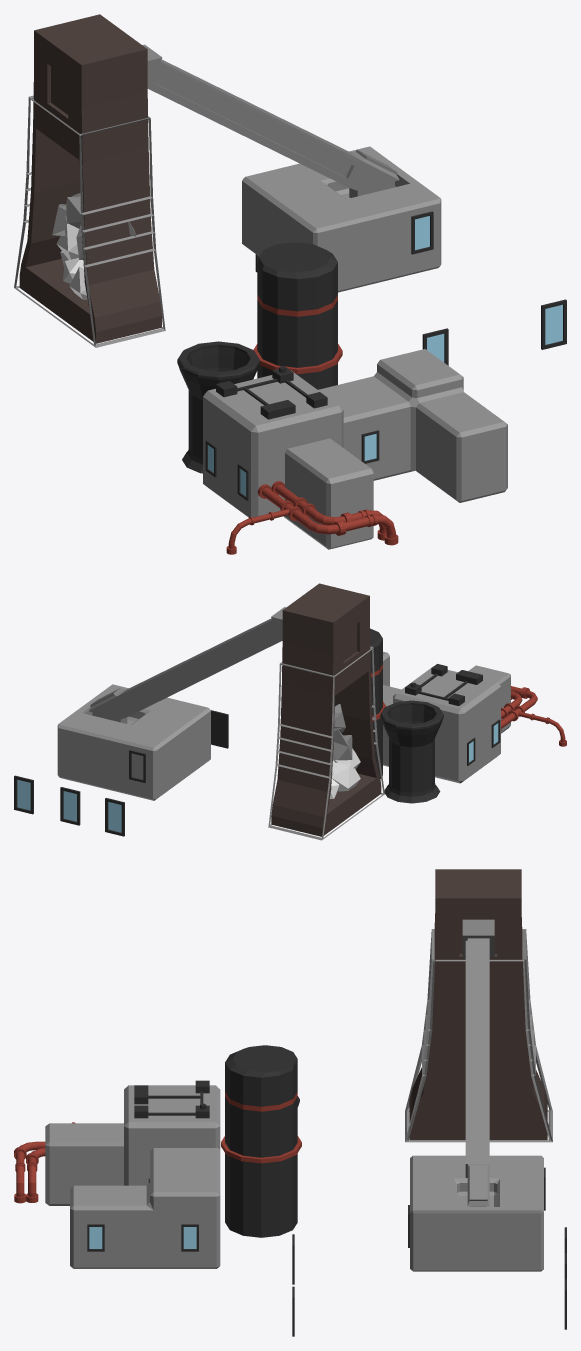
File: Industry_NEWOBJECT1.fbx
The picture shows the model from 3 angles, top to bottom: view 1: azimuth 30°, elevation 25°; view 2: azimuth 150°, elevation 25°; view 3: azimuth 270°, elevation 25°; orthographic projection. The views are drawn at different scales.
Visible parts, largest first — view 1: Oven, Cube.001, Cube.005, Cube, Cylinder.002, Cube.003, Cube.002, Cylinder, Railing, Energy_House.001, h2, Energy_House.002 (+4 smaller); view 2: Oven, Cube.005, Cube, Cube.003, Cylinder, Railing, Cylinder.002, h2, Energy_House.001, Steel, Plane.005, Cube.002 (+4 smaller); view 3: Oven, Cube.005, Cube.001, Cylinder.002, Cube.003, Cube, Cube.002, Railing, Energy_House.001, Energy_House.002.
Boxes of the visible parts, box(x1,y1,x2,y2) form: Oven: box(19, 14, 161, 343); Cube.001: box(318, 349, 507, 502); Cube.005: box(242, 146, 441, 292); Cube: box(203, 370, 343, 517); Cylinder.002: box(253, 242, 342, 389); Cube.003: box(142, 44, 399, 197); Cube.002: box(284, 438, 373, 549); Cylinder: box(177, 341, 259, 473); Railing: box(14, 95, 165, 347); Energy_House.001: box(226, 484, 398, 554); h2: box(56, 223, 87, 300); Energy_House.002: box(271, 481, 386, 540); Oven: box(271, 583, 381, 836); Cube.005: box(57, 684, 210, 800); Cube: box(393, 666, 500, 783); Cube.003: box(89, 607, 285, 723); Cylinder: box(380, 700, 443, 803); Railing: box(268, 646, 384, 840); Cylinder.002: box(370, 628, 386, 778); h2: box(329, 748, 360, 798); Energy_House.001: box(501, 686, 566, 746); Steel: box(333, 704, 352, 760); Plane.005: box(60, 787, 80, 825); Cube.002: box(468, 665, 510, 733); Oven: box(409, 869, 547, 1140); Cube.005: box(410, 1155, 543, 1271); Cube.001: box(70, 1147, 220, 1268); Cylinder.002: box(221, 1045, 301, 1237); Cube.003: box(462, 919, 494, 1206); Cube: box(124, 1085, 220, 1185); Cube.002: box(45, 1123, 123, 1205); Railing: box(405, 929, 552, 1142); Energy_House.001: box(14, 1122, 75, 1203); Energy_House.002: box(26, 1148, 45, 1202).
Bounding box in the file's own units: 3843 × 2679 × 4424.
